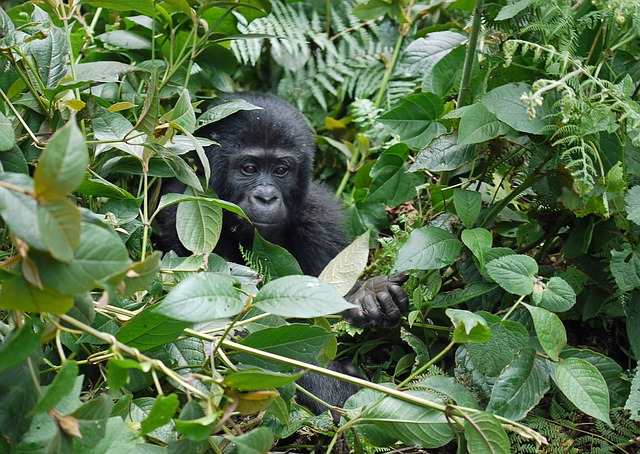Goriila: (130, 48, 451, 430)
